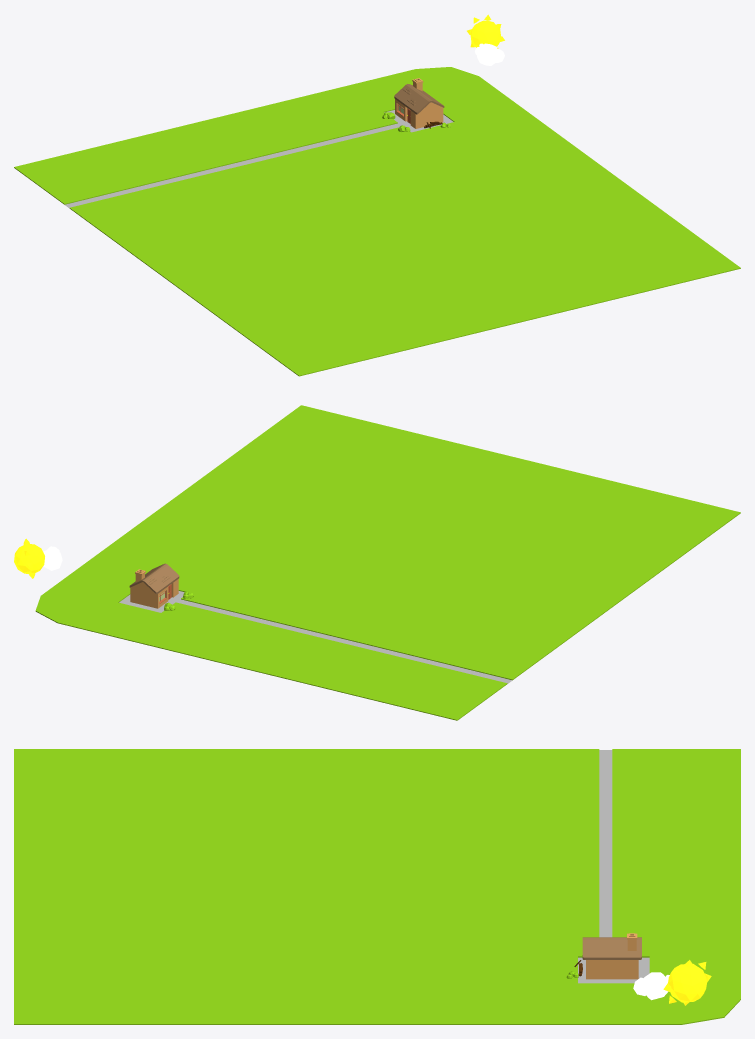
Rendered from house_extended.glb.
3 renders of one model, top to bottom at view 1: azimuth 30°, elevation 25°; view 2: azimuth 150°, elevation 25°; view 3: azimuth 270°, elevation 25°, orthographic. The views are drawn at different scales.
Parts seen in each view (by area): view 1: Grass, Path, House, Sun, Roof; view 2: Grass, Path, House, Sun, Roof; view 3: Grass, Path, Sun, Roof, House, Cloud.
Boxes of the visible parts, left/top/right/bottom form: Grass: left=14, top=67, right=740, bottom=376; Path: left=64, top=110, right=453, bottom=208; House: left=395, top=78, right=443, bottom=128; Sun: left=467, top=14, right=504, bottom=48; Roof: left=394, top=84, right=444, bottom=114; Grass: left=35, top=405, right=740, bottom=720; Path: left=119, top=591, right=512, bottom=683; House: left=130, top=569, right=178, bottom=608; Sun: left=14, top=538, right=44, bottom=578; Roof: left=129, top=563, right=179, bottom=594; Grass: left=14, top=749, right=740, bottom=1024; Path: left=578, top=750, right=649, bottom=983; Sun: left=663, top=960, right=711, bottom=1005; Roof: left=582, top=937, right=641, bottom=959; House: left=586, top=933, right=638, bottom=979; Cloud: left=633, top=972, right=669, bottom=1000.
Size of what is drawn, in the model's own units: 62.36 by 7.75 by 66.28.
